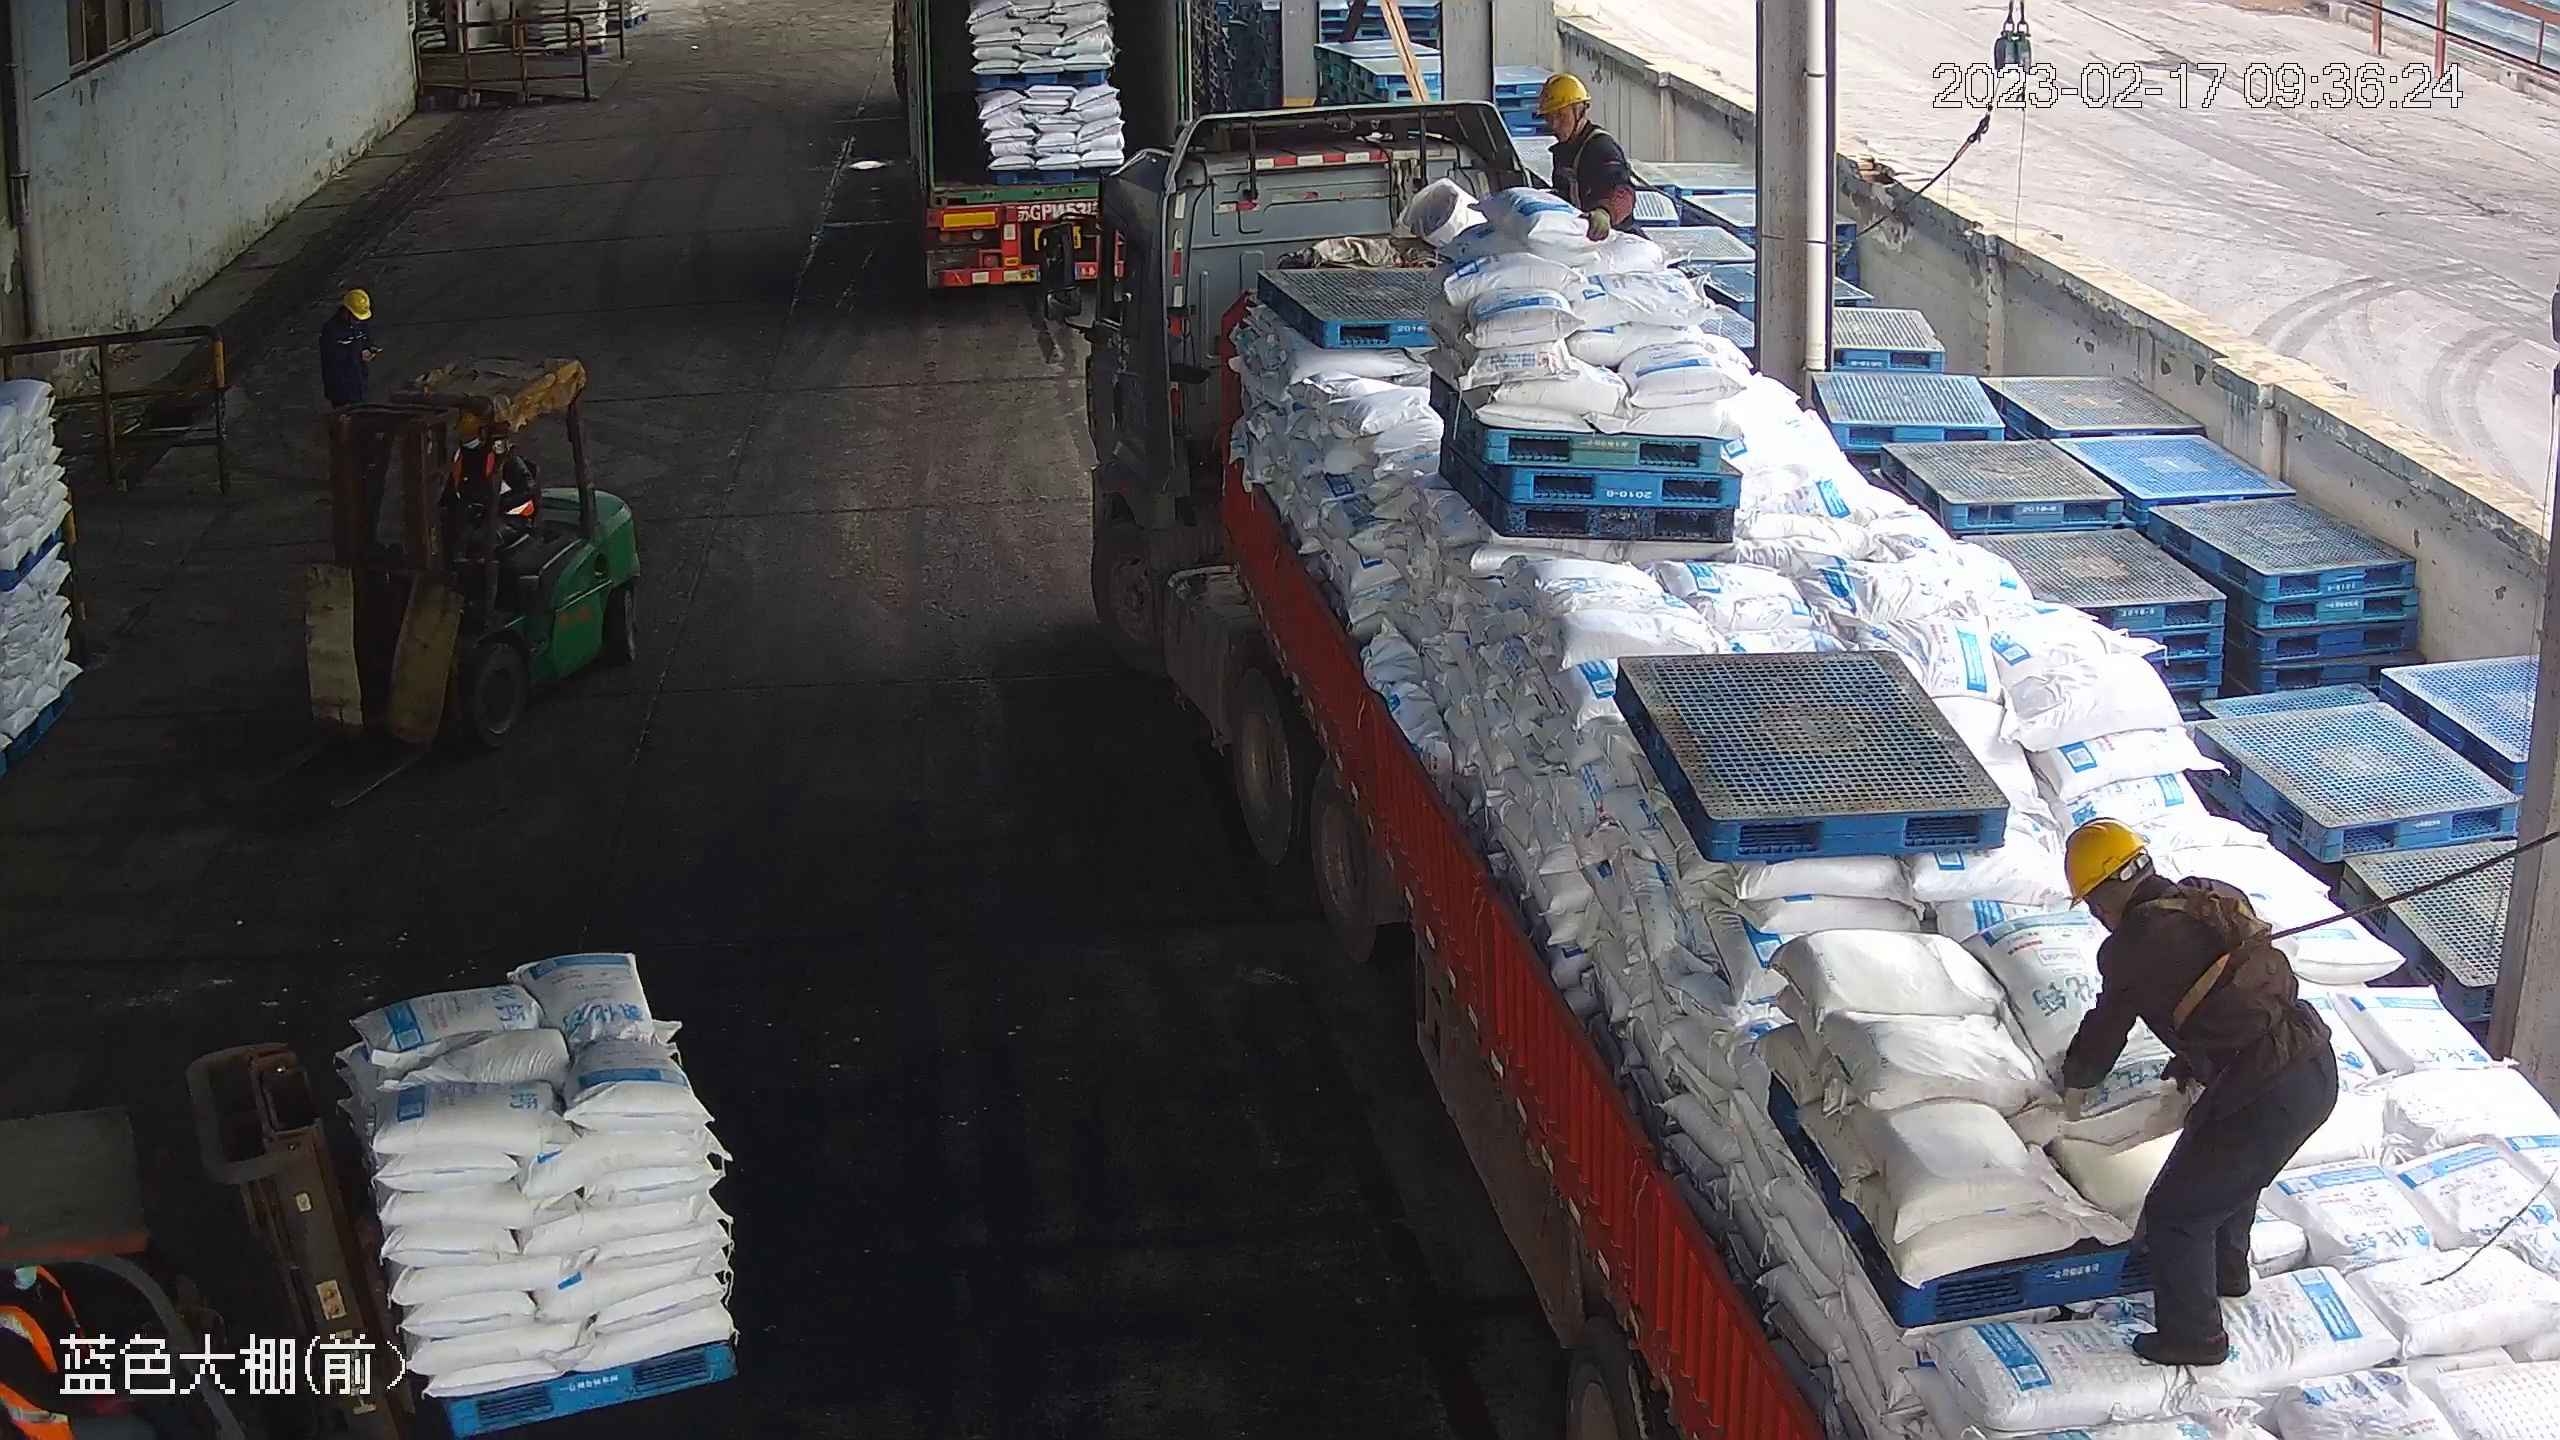belt: (2139, 880, 2284, 1029), (1565, 125, 1631, 175)
head: (2057, 815, 2251, 984), (1536, 71, 1629, 166), (321, 284, 376, 350)
helmet: (2056, 814, 2151, 902), (1533, 70, 1591, 114), (339, 286, 369, 314)
people: (2047, 812, 2341, 1371), (318, 286, 380, 419)
truck: (1034, 95, 2553, 1438), (878, 6, 1206, 323)
